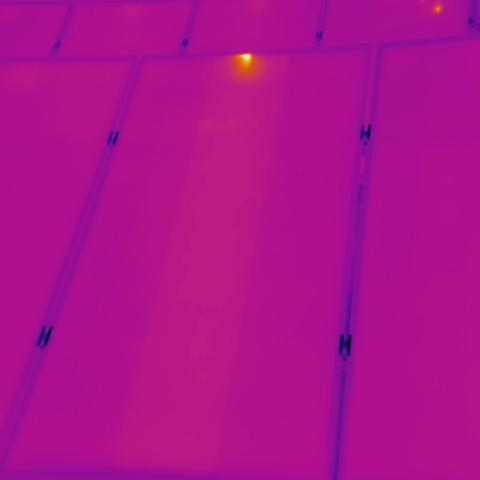fault: (231, 50, 258, 66)
